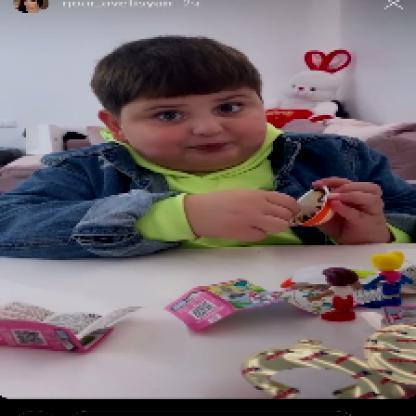child: (1, 32, 415, 263)
